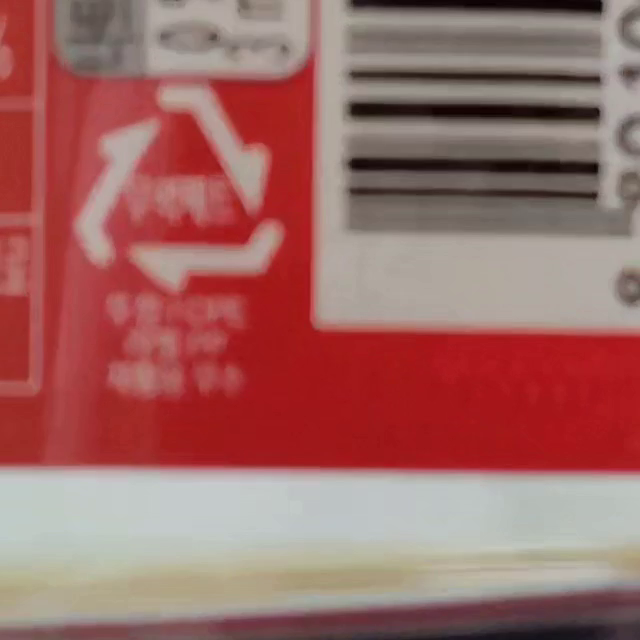ColorlessPet: (73, 86, 281, 294)
